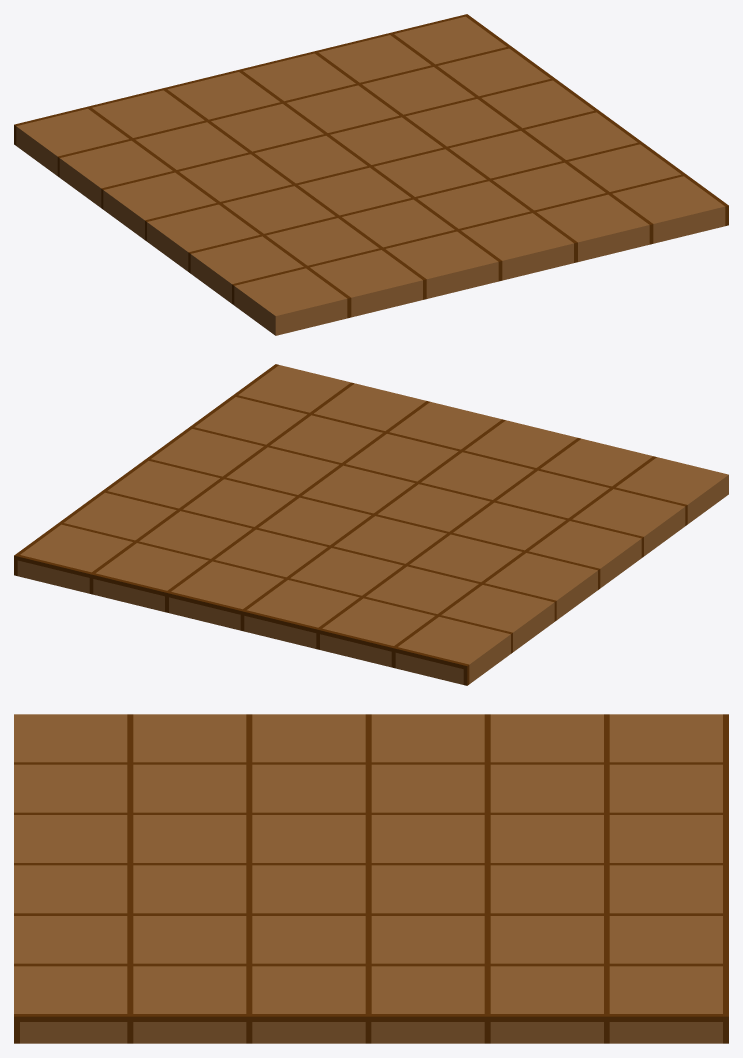
File: floor10.obj
The picture shows the model from 3 angles, top to bottom: view 1: azimuth 30°, elevation 25°; view 2: azimuth 150°, elevation 25°; view 3: azimuth 270°, elevation 25°; orthographic projection. The views are drawn at different scales.
Size of the model in its own units: 12 by 0.5 by 12.
1 material, 1 textured.
